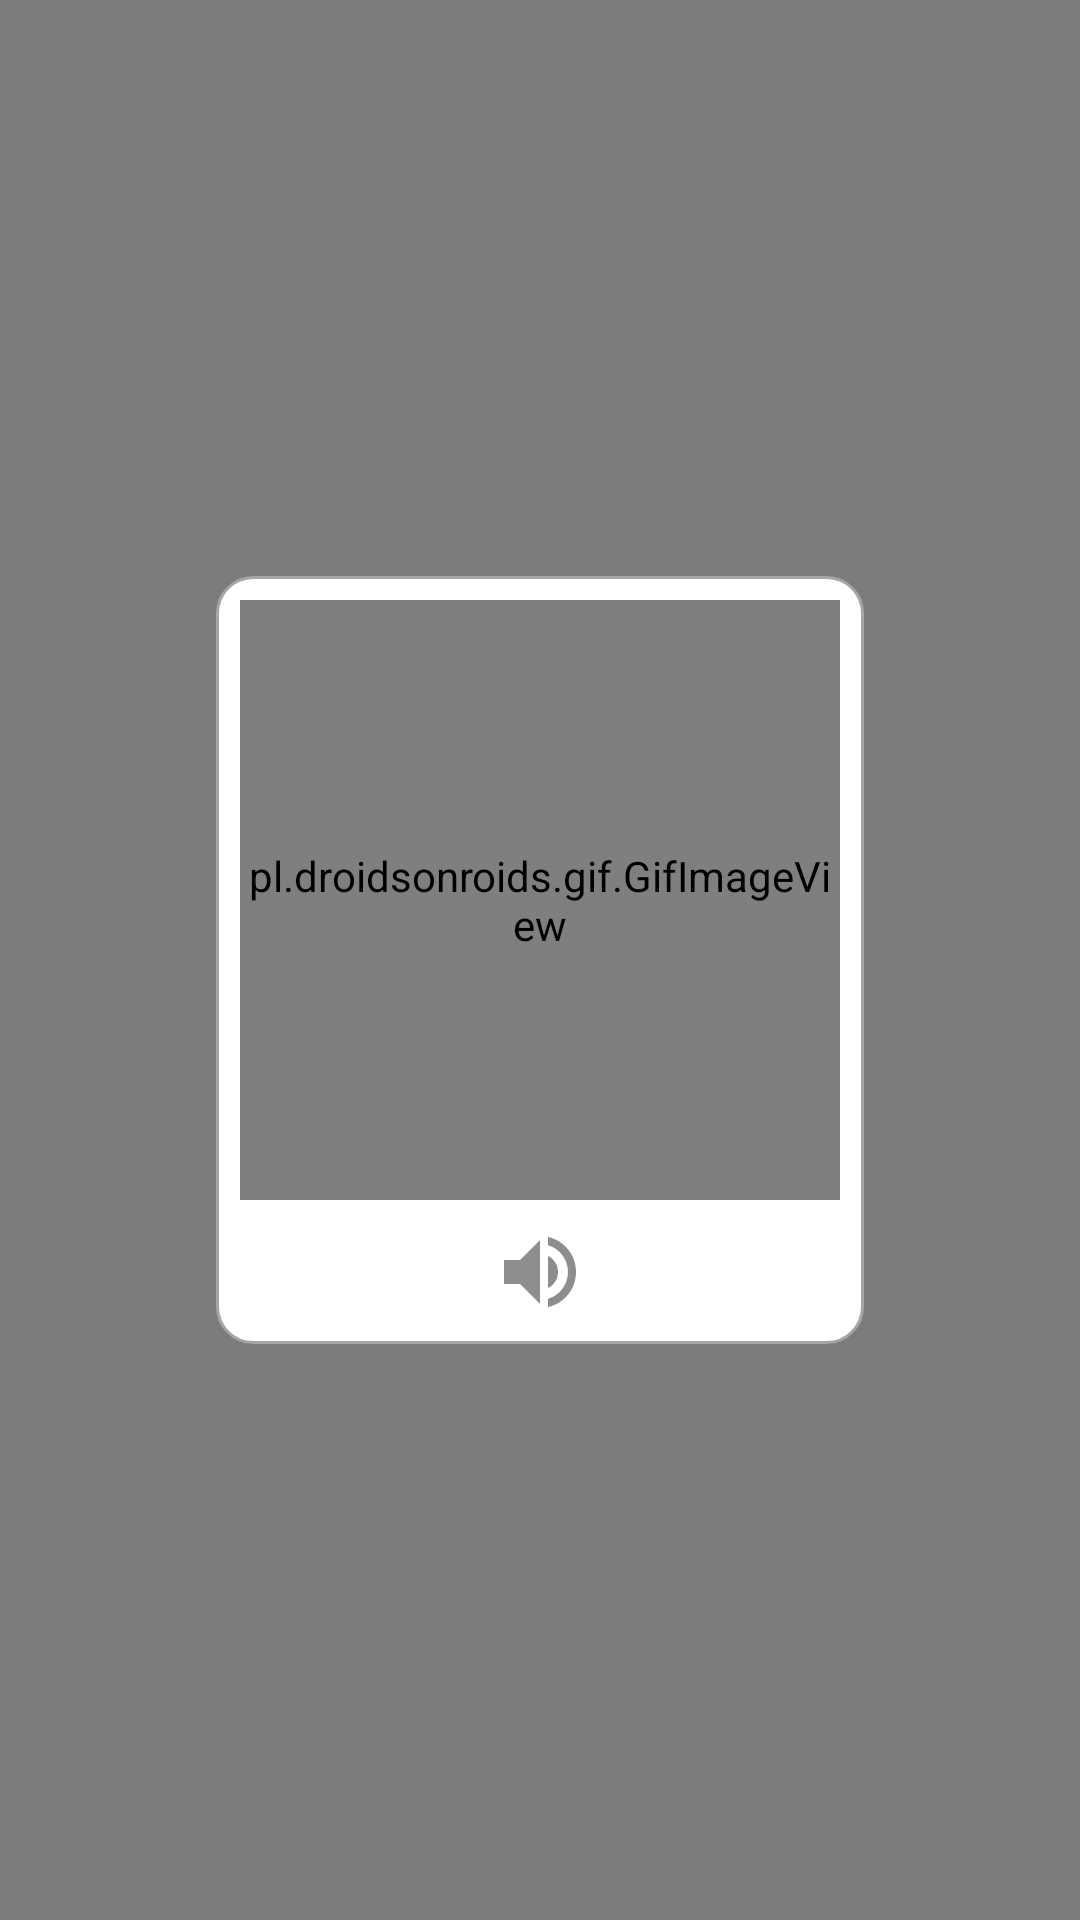

Point at icon controls on the screen. Image size 1080*1920, points as [x,y].
volume up: [540,1272]
